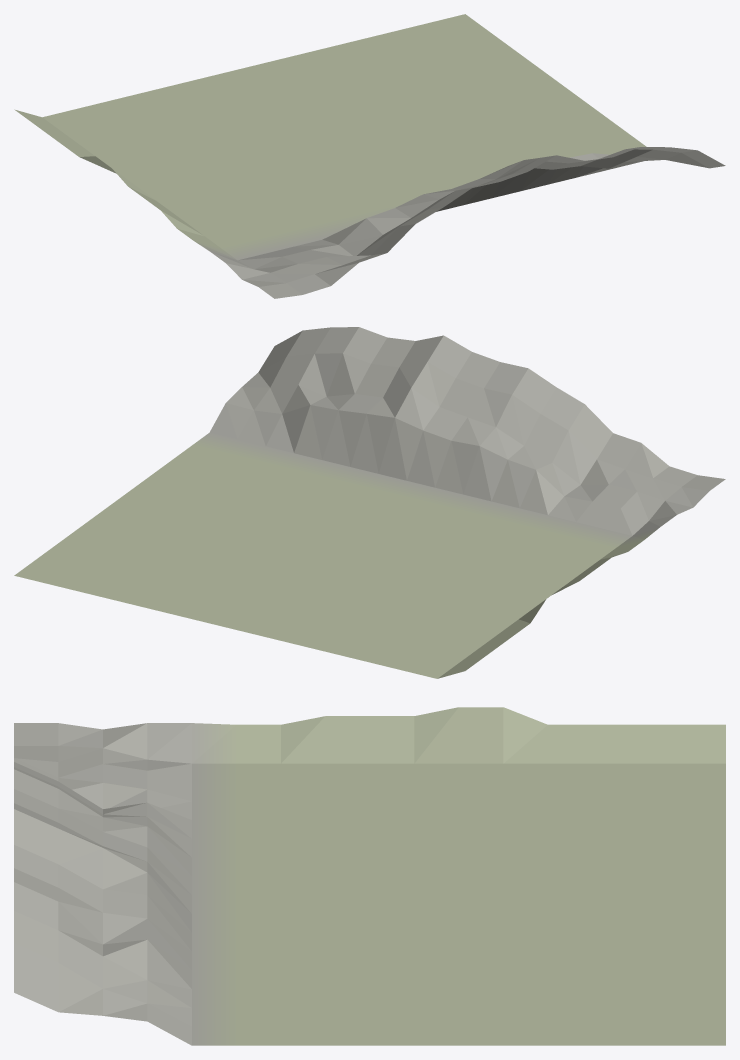
3 views of the same model, one above another, from view 1: azimuth 30°, elevation 25°; view 2: azimuth 150°, elevation 25°; view 3: azimuth 270°, elevation 25° (orthographic). The views are drawn at different scales.
Size of the model in its own units: 32 by 6.15 by 32.
